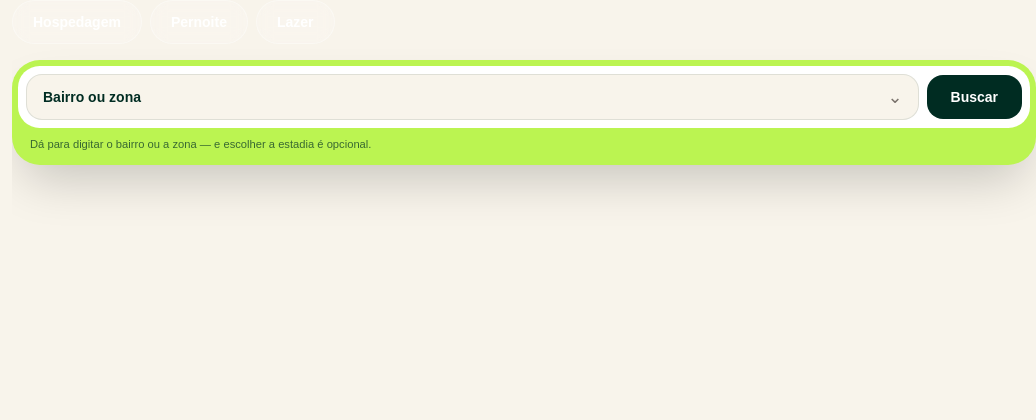
Test: oferece zonas e bairros na mesma lista
Click the dropdown labelled "Bairro ou zona" at x=472, y=97, box x1=26 y1=74 x2=918 y2=120
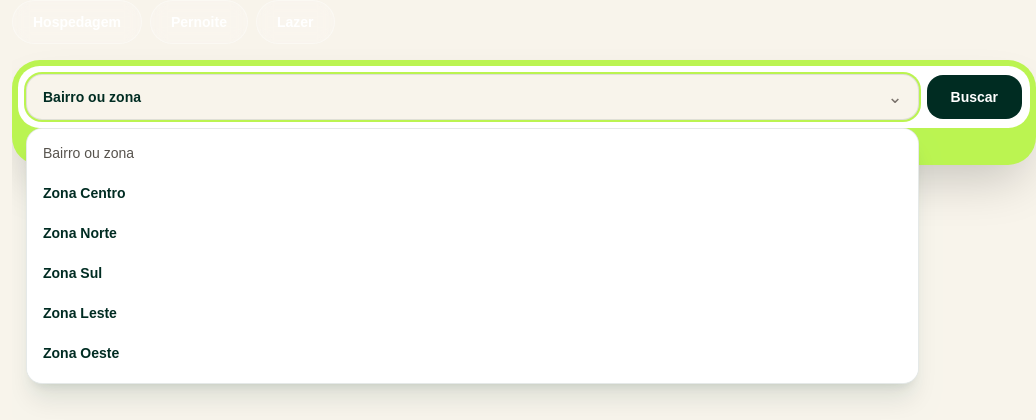
Check: the option "Zona Sul" is shown, box x1=31 y1=253 x2=914 y2=293
